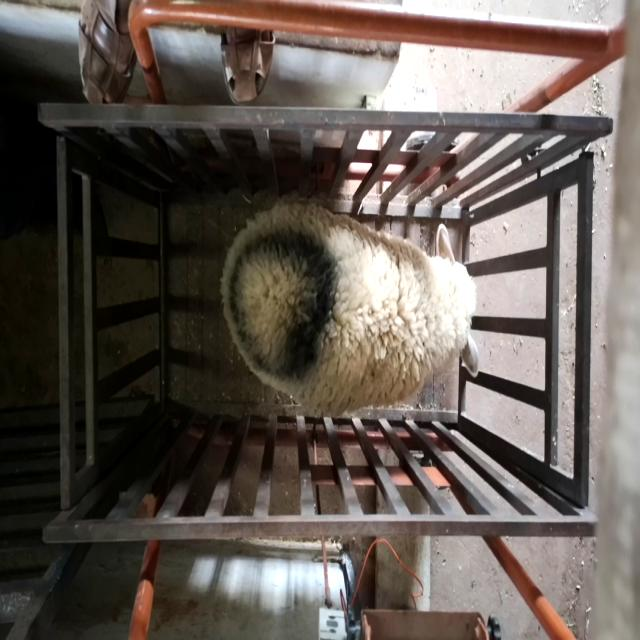sheep: (220, 203, 479, 417)
